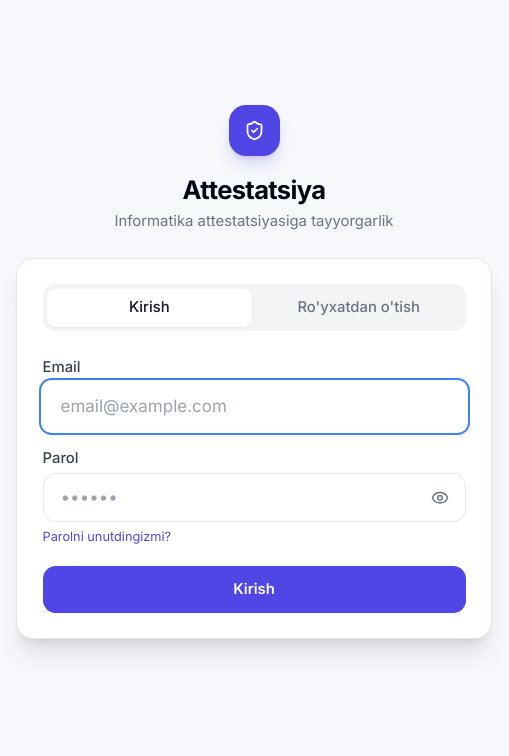
Scenario: Auth sahifasi › signup: parollar mos kelmasa signUp chaqirilmaydi
The image size is (509, 756).
Click the button "Ro'yxatdan o'tish".
click(359, 308)  # box [256, 289, 461, 327]
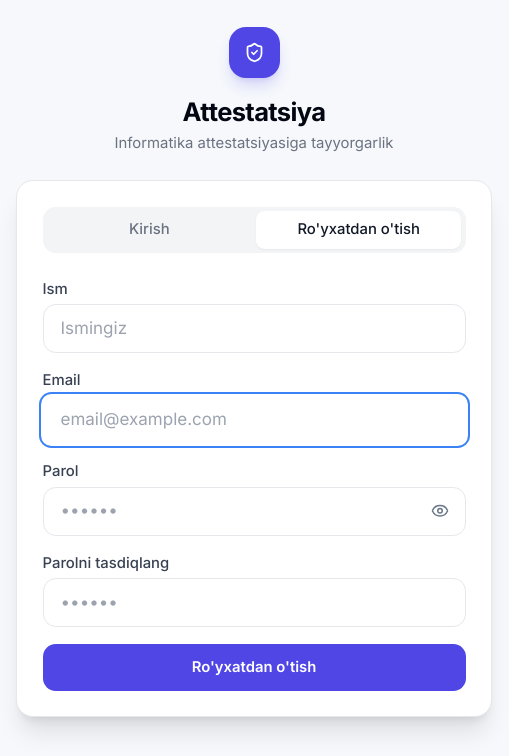
Type "Ali" into the field labelled "Ism".
click(254, 329); type("Ali")  # box [42, 304, 466, 353]
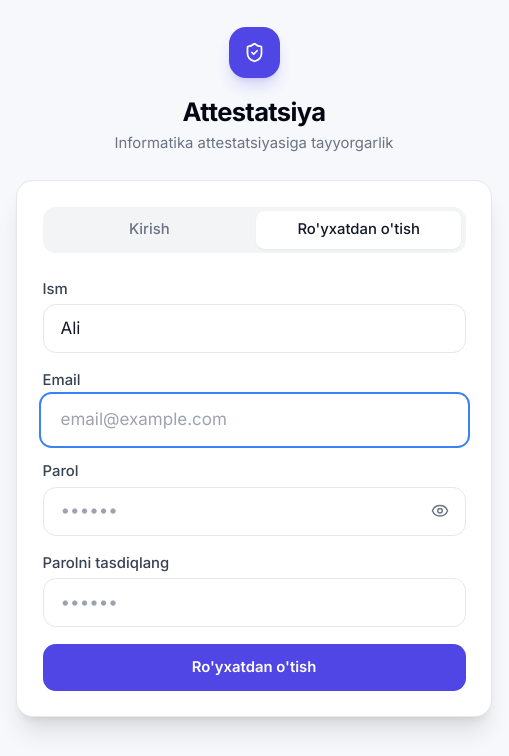
Type "new@test.com" into the field labelled "Email".
click(254, 420); type("new@test.com")  # box [42, 396, 466, 444]
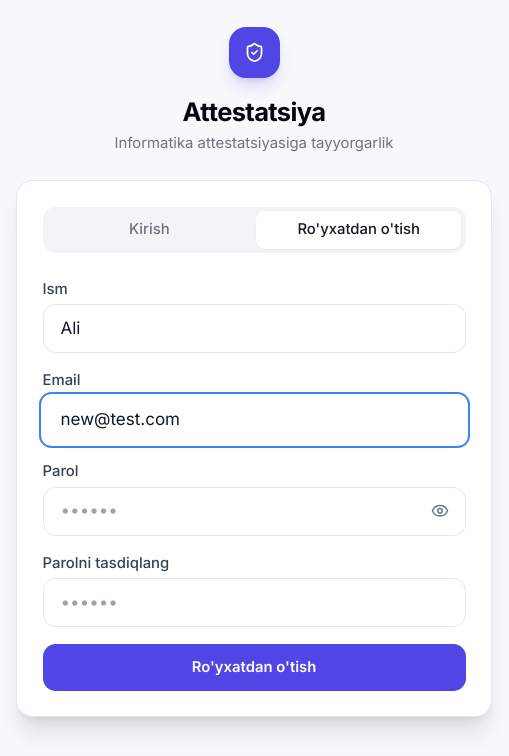
Type "secret123" into the password field labelled "Parol".
click(254, 511); type("secret123")  # box [42, 487, 466, 536]
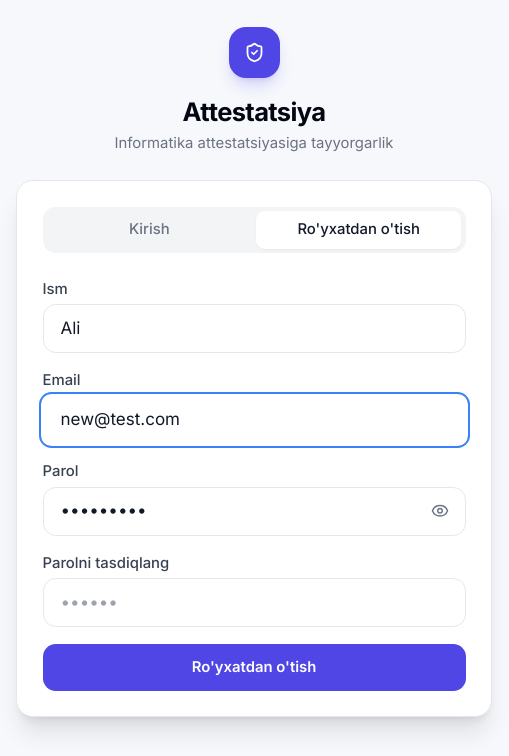
Type "different" into the password field labelled "Parolni tasdiqlang".
click(254, 602); type("different")  # box [42, 578, 466, 627]
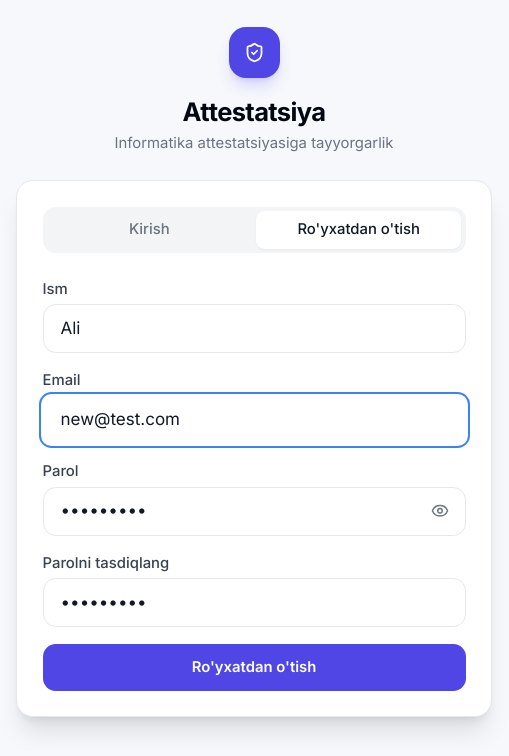
Submit the form labelled "Parolni tasdiqlang", box [42, 279, 466, 691]
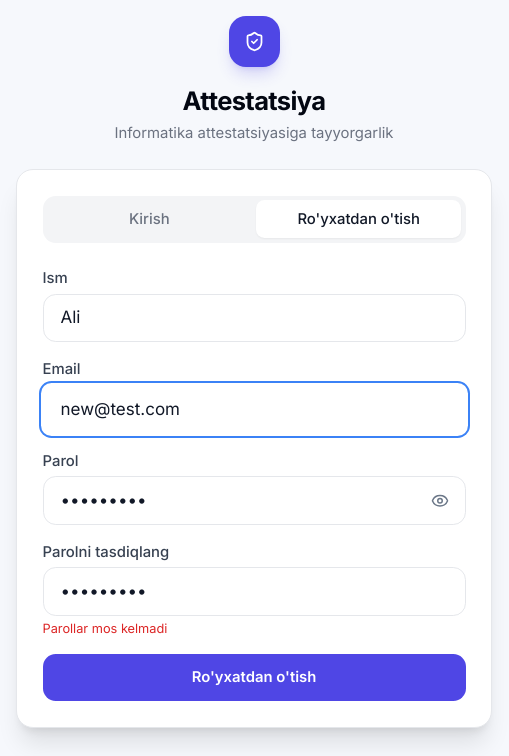
Expected: the text "Parollar mos kelmadi" is shown, [42, 621, 167, 636]
